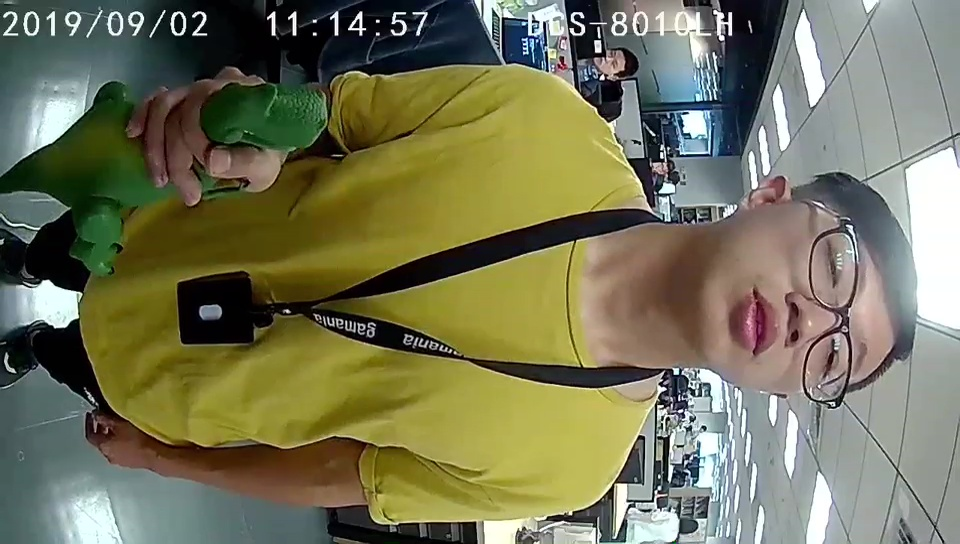rex: (61, 83, 331, 275)
